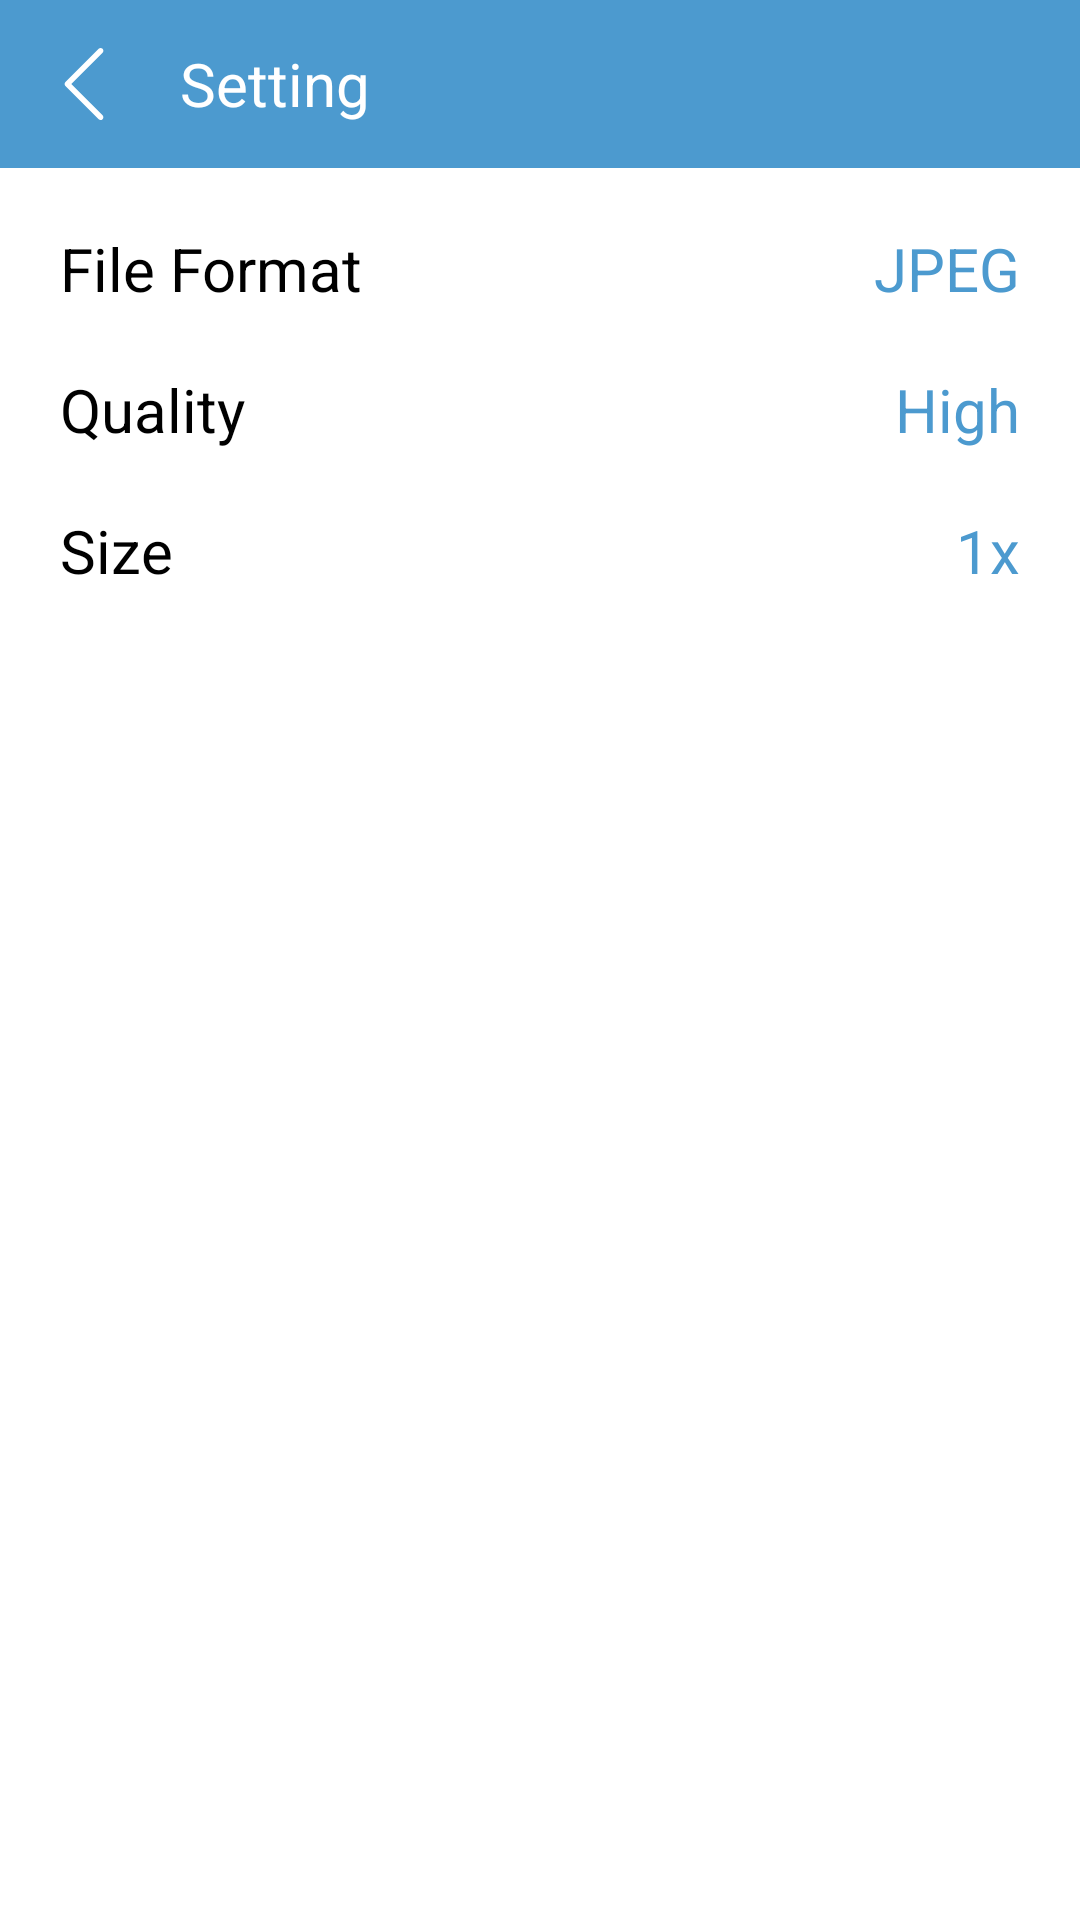

Icon bounding boxes for this 1080 x 1920 phone screenshot, format (x1, y1, x2, y2):
back: (64, 48, 104, 120)
